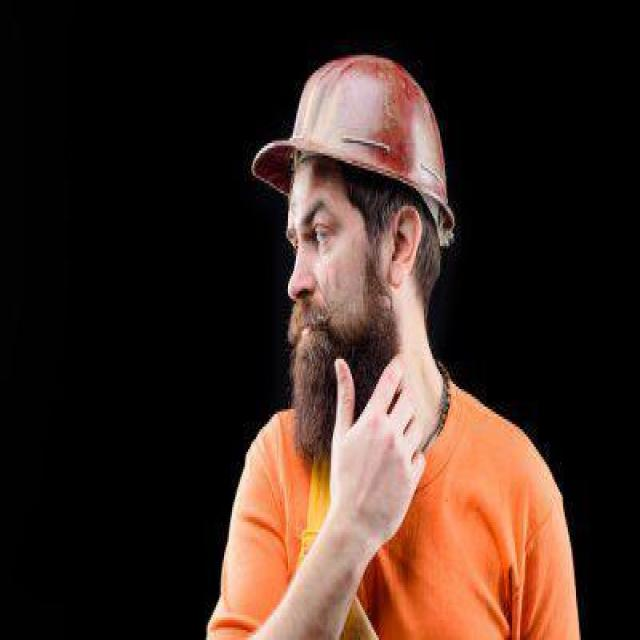hat: (252, 56, 463, 229)
